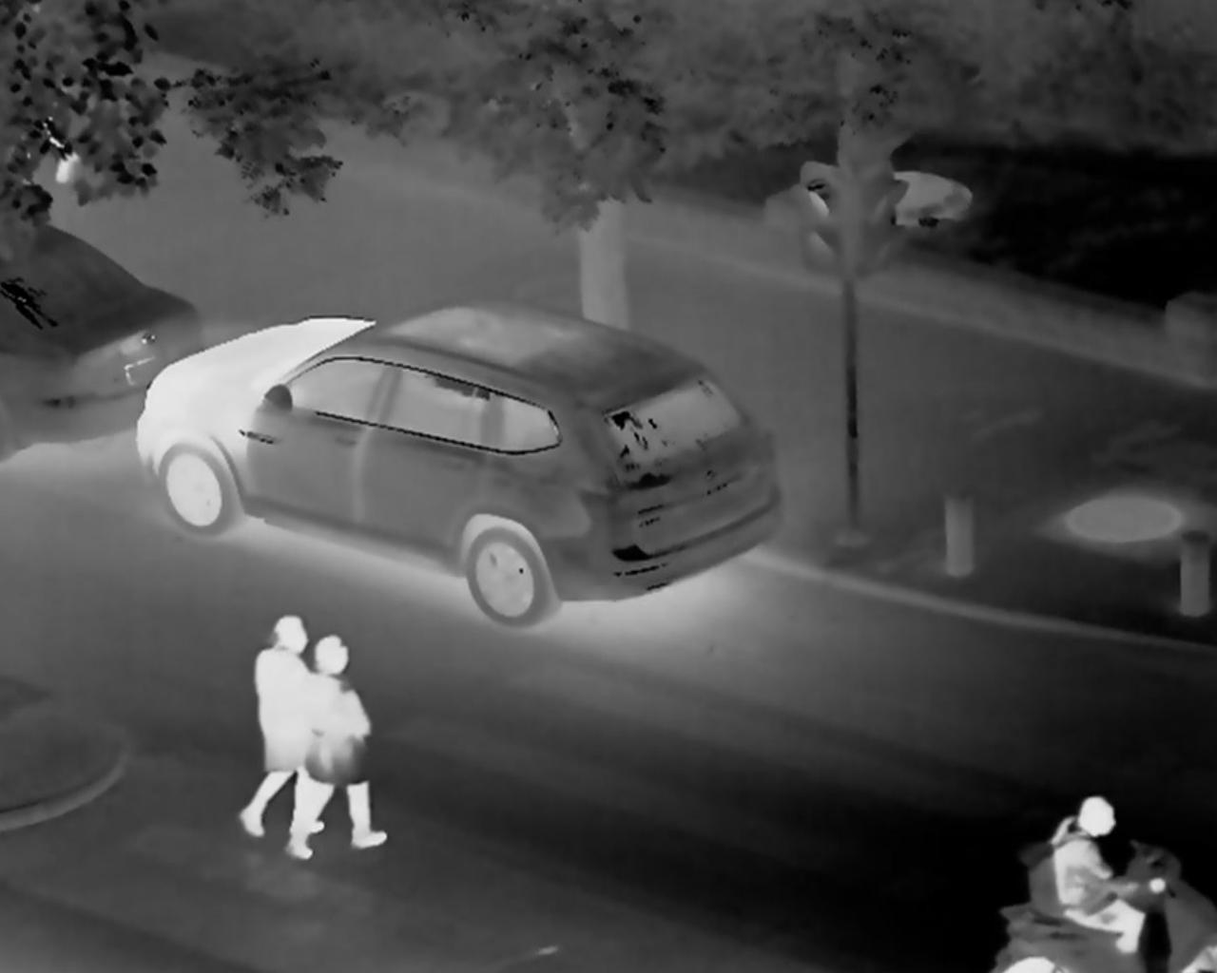person: (288, 630, 387, 856), (1041, 792, 1167, 960), (240, 610, 322, 841)
